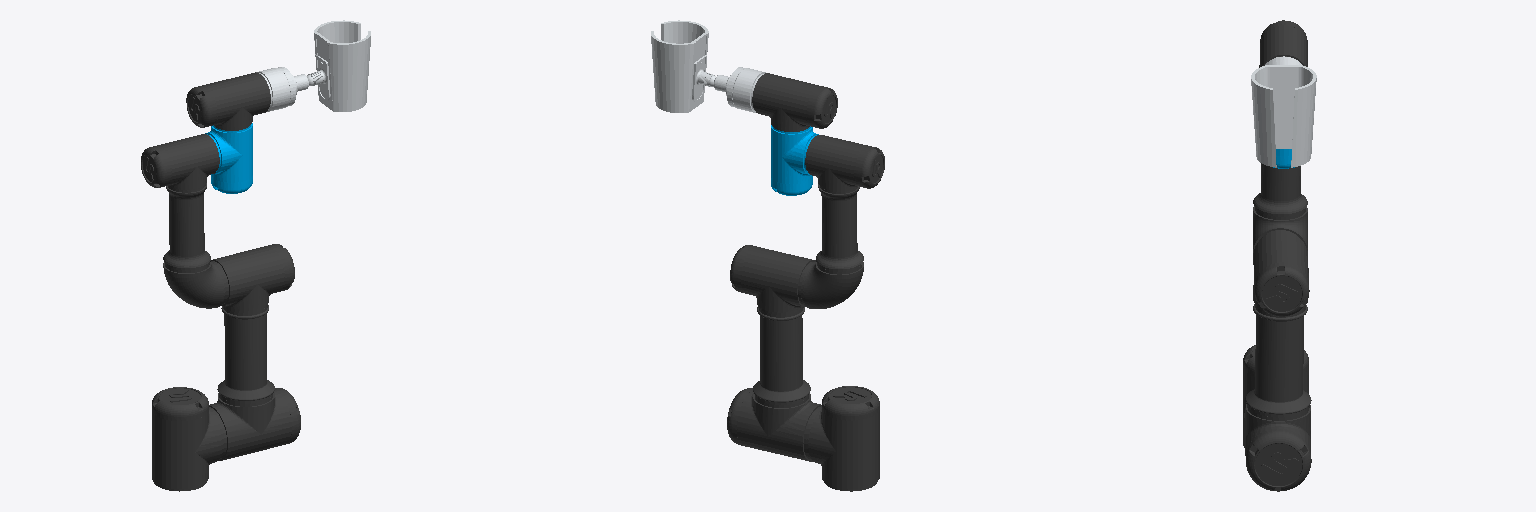
The robot description file, URDF, robot "ur_con_herramienta_fija":
<?xml version="1.0" encoding="utf-8" ?>
<!-- This URDF was automatically created by SolidWorks to URDF Exporter! Originally created by [author] ([email redacted]) 
     Commit Version: 1.6.0-1-g15f4949  Build Version: 1.6.7594.29634
     For more information, please see http://wiki.ros.org/sw_urdf_exporter -->
<robot name="ur_con_herramienta_fija">
    <link name="base_link">
        
<inertial>
            <origin xyz="2.64101237535564E-18 0.0475762493981301 -6.84823428946027E-18" rpy="0 0 0" />
            <mass value="2.65145043916468" />
            <inertia ixx="0.00437179269564763" ixy="7.2253503645595E-22" ixz="-8.3942079755898E-36" iyy="0.00438480872973141" iyz="-3.85148667524642E-19" izz="0.00437179269564763" />
        </inertial>

        <visual>
            <origin xyz="0 0 0" rpy="0 0 0" />
            <geometry>
                <mesh filename="package://ur_con_herramienta_fija/meshes/base_link.STL" />
            </geometry>
            <material name="">
                <color rgba="0.898039215686275 0.917647058823529 0.929411764705882 1" />
            </material>
        </visual>
        <collision>
            <origin xyz="0 0 0" rpy="0 0 0" />
            <geometry>
                <mesh filename="package://ur_con_herramienta_fija/meshes/base_link.STL" />
            </geometry>
        </collision>
    </link>
    <link name="shoulder1_link">
        
<inertial>
            <origin xyz="0.00514792403286268 0.0637458415037933 -2.32179009735414E-07" rpy="0 0 0" />
            <mass value="0.800701358529581" />
            <inertia ixx="0.00131487870842272" ixy="-1.72221420403911E-05" ixz="1.37252271850442E-08" iyy="0.000954968358643356" iyz="9.79847131683316E-10" izz="0.00141534841474555" />
        </inertial>

        <visual>
            <origin xyz="0 0 0" rpy="0 0 0" />
            <geometry>
                <mesh filename="package://ur_con_herramienta_fija/meshes/shoulder1_link.STL" />
            </geometry>
            <material name="">
                <color rgba="0.298039215686275 0.298039215686275 0.298039215686275 1" />
            </material>
        </visual>
        <collision>
            <origin xyz="0 0 0" rpy="0 0 0" />
            <geometry>
                <mesh filename="package://ur_con_herramienta_fija/meshes/shoulder1_link.STL" />
            </geometry>
        </collision>
    </link>
    <joint name="shoulder1_joint" type="continuous">
        <origin xyz="0 0 0.1058" rpy="1.5707963267949 0 0.0183849589678351" />
        <parent link="base_link" />
        <child link="shoulder1_link" />
        <axis xyz="0 1 0" />
    </joint>
    <link name="shoulder2_Link">
        
<inertial>
            <origin xyz="0.113689711007059 0.064919758897963 1.27017223089648E-07" rpy="0 0 0" />
            <mass value="2.79610549136134" />
            <inertia ixx="0.00280381546638843" ixy="-1.27251874671282E-05" ixz="-1.48095522566419E-08" iyy="0.00503444592371733" iyz="-2.55986839461009E-09" izz="0.00570902082553899" />
        </inertial>

        <visual>
            <origin xyz="0 0 0" rpy="0 0 0" />
            <geometry>
                <mesh filename="package://ur_con_herramienta_fija/meshes/shoulder2_Link.STL" />
            </geometry>
            <material name="">
                <color rgba="0.298039215686275 0.298039215686275 0.298039215686275 1" />
            </material>
        </visual>
        <collision>
            <origin xyz="0 0 0" rpy="0 0 0" />
            <geometry>
                <mesh filename="package://ur_con_herramienta_fija/meshes/shoulder2_Link.STL" />
            </geometry>
        </collision>
    </link>
    <joint name="shoulder2_joint" type="continuous">
        <origin xyz="0.0553388892120295 0.066 0" rpy="-3.14159265358971 0.0185718779793312 1.5707963267949" />
        <parent link="shoulder1_link" />
        <child link="shoulder2_Link" />
        <axis xyz="0 1 0" />
    </joint>
    <link name="shoulder3_Link">
        
<inertial>
            <origin xyz="0.0372493474620883 -0.115733396945102 1.39835810665165E-08" rpy="0 0 0" />
            <mass value="1.54172457038253" />
            <inertia ixx="0.0021915651639715" ixy="5.89418525085992E-05" ixz="-5.21035861442251E-10" iyy="0.00089862926269953" iyz="-3.81373846770823E-09" izz="0.00231411869604767" />
        </inertial>

        <visual>
            <origin xyz="0 0 0" rpy="0 0 0" />
            <geometry>
                <mesh filename="package://ur_con_herramienta_fija/meshes/shoulder3_Link.STL" />
            </geometry>
            <material name="">
                <color rgba="0.298039215686275 0.298039215686275 0.298039215686275 1" />
            </material>
        </visual>
        <collision>
            <origin xyz="0 0 0" rpy="0 0 0" />
            <geometry>
                <mesh filename="package://ur_con_herramienta_fija/meshes/shoulder3_Link.STL" />
            </geometry>
        </collision>
    </link>
    <joint name="shoulder3_joint" type="continuous">
        <origin xyz="0.255 0 0" rpy="3.14084122794701 0 -1.5707963267949" />
        <parent link="shoulder2_Link" />
        <child link="shoulder3_Link" />
        <axis xyz="1 0 0" />
    </joint>
    <link name="shoulder4_Link">
        
<inertial>
            <origin xyz="0.0056931504051686 0.00260315148511447 0.0359570418540721" rpy="0 0 0" />
            <mass value="0.30365252171567" />
            <inertia ixx="0.000280146121518899" ixy="-2.01684005428703E-07" ixz="-3.40077770509169E-06" iyy="0.000191315923778503" iyz="-1.27200706541373E-06" izz="0.000259233118901331" />
        </inertial>

        <visual>
            <origin xyz="0 0 0" rpy="0 0 0" />
            <geometry>
                <mesh filename="package://ur_con_herramienta_fija/meshes/shoulder4_Link.STL" />
            </geometry>
            <material name="">
                <color rgba="0 0.725490196078431 1 1" />
            </material>
        </visual>
        <collision>
            <origin xyz="0 0 0" rpy="0 0 0" />
            <geometry>
                <mesh filename="package://ur_con_herramienta_fija/meshes/shoulder4_Link.STL" />
            </geometry>
        </collision>
    </link>
    <joint name="shoulder4_joint" type="continuous">
        <origin xyz="-0.00376999800768517 -0.2245 0" rpy="-3.02811430920995 -1.4127718869458 3.02951635397989" />
        <parent link="shoulder3_Link" />
        <child link="shoulder4_Link" />
        <axis xyz="0.156380249592865 0 0.987696925953135" />
    </joint>
    <link name="shoulder5_Link">
        
<inertial>
            <origin xyz="-0.0391252197015427 -0.00184289099308041 7.99414916381747E-09" rpy="0 0 0" />
            <mass value="0.333185460218424" />
            <inertia ixx="0.000330241453545441" ixy="-4.05903181066883E-06" ixz="3.42280898192863E-09" iyy="0.000207362986969204" iyz="-1.03514483340162E-10" izz="0.00035268676518792" />
        </inertial>

        <visual>
            <origin xyz="0 0 0" rpy="0 0 0" />
            <geometry>
                <mesh filename="package://ur_con_herramienta_fija/meshes/shoulder5_Link.STL" />
            </geometry>
            <material name="">
                <color rgba="0.298039215686275 0.298039215686275 0.298039215686275 1" />
            </material>
        </visual>
        <collision>
            <origin xyz="0 0 0" rpy="0 0 0" />
            <geometry>
                <mesh filename="package://ur_con_herramienta_fija/meshes/shoulder5_Link.STL" />
            </geometry>
        </collision>
    </link>
    <joint name="shoulder5_joint" type="continuous">
        <origin xyz="0.00631637229775821 -0.0407409448596764 0.0398941779289388" rpy="-1.39538662615873 0 1.5707963267949" />
        <parent link="shoulder4_Link" />
        <child link="shoulder5_Link" />
        <axis xyz="1 0 0" />
    </joint>
    <link name="terminal_Link">
        
<inertial>
            <origin xyz="-0.00262793592961208 0.0558871584719643 -8.20912069225826E-05" rpy="0 0 0" />
            <mass value="0.50199339743949" />
            <inertia ixx="0.000308581635077254" ixy="-5.97748068064847E-06" ixz="-1.51138663756366E-06" iyy="0.000449594842781553" iyz="-1.8641842731855E-07" izz="0.000356863676269175" />
        </inertial>

        <visual>
            <origin xyz="0 0 0" rpy="0 0 0" />
            <geometry>
                <mesh filename="package://ur_con_herramienta_fija/meshes/terminal_Link.STL" />
            </geometry>
            <material name="">
                <color rgba="0.894117647058823 0.913725490196078 0.929411764705882 1" />
            </material>
        </visual>
        <collision>
            <origin xyz="0 0 0" rpy="0 0 0" />
            <geometry>
                <mesh filename="package://ur_con_herramienta_fija/meshes/terminal_Link.STL" />
            </geometry>
        </collision>
    </link>
    <joint name="terminal_joint" type="continuous">
        <origin xyz="-0.0427590551403216 -0.0530000000000001 0" rpy="-3.14159265358979 -0.0312647346449551 0" />
        <parent link="shoulder5_Link" />
        <child link="terminal_Link" />
        <axis xyz="0 1 0" />
    </joint>
    
<transmission name="trans_shoulder1_joint">
        <type>transmission_interface/SimpleTransmission</type>
        <joint name="shoulder1_joint">
            <hardwareInterface>hardware_interface/EffortJointInterface</hardwareInterface>
        </joint>
        <actuator name="shoulder1_joint_motor">
            <hardwareInterface>hardware_interface/EffortJointInterface</hardwareInterface>
            <mechanicalReduction>1</mechanicalReduction>
        </actuator>
    </transmission>
    <transmission name="trans_shoulder2_joint">
        <type>transmission_interface/SimpleTransmission</type>
        <joint name="shoulder2_joint">
            <hardwareInterface>hardware_interface/EffortJointInterface</hardwareInterface>
        </joint>
        <actuator name="shoulder2_joint_motor">
            <hardwareInterface>hardware_interface/EffortJointInterface</hardwareInterface>
            <mechanicalReduction>1</mechanicalReduction>
        </actuator>
    </transmission>
    <transmission name="trans_shoulder3_joint">
        <type>transmission_interface/SimpleTransmission</type>
        <joint name="shoulder3_joint">
            <hardwareInterface>hardware_interface/EffortJointInterface</hardwareInterface>
        </joint>
        <actuator name="shoulder3_joint_motor">
            <hardwareInterface>hardware_interface/EffortJointInterface</hardwareInterface>
            <mechanicalReduction>1</mechanicalReduction>
        </actuator>
    </transmission>
    <transmission name="trans_shoulder4_joint">
        <type>transmission_interface/SimpleTransmission</type>
        <joint name="shoulder4_joint">
            <hardwareInterface>hardware_interface/EffortJointInterface</hardwareInterface>
        </joint>
        <actuator name="shoulder4_joint_motor">
            <hardwareInterface>hardware_interface/EffortJointInterface</hardwareInterface>
            <mechanicalReduction>1</mechanicalReduction>
        </actuator>
    </transmission>
    <transmission name="trans_shoulder5_joint">
        <type>transmission_interface/SimpleTransmission</type>
        <joint name="shoulder5_joint">
            <hardwareInterface>hardware_interface/EffortJointInterface</hardwareInterface>
        </joint>
        <actuator name="shoulder5_joint_motor">
            <hardwareInterface>hardware_interface/EffortJointInterface</hardwareInterface>
            <mechanicalReduction>1</mechanicalReduction>
        </actuator>
    </transmission>
    <transmission name="trans_terminal_joint">
        <type>transmission_interface/SimpleTransmission</type>
        <joint name="terminal_joint">
            <hardwareInterface>hardware_interface/EffortJointInterface</hardwareInterface>
        </joint>
        <actuator name="terminal_joint_motor">
            <hardwareInterface>hardware_interface/EffortJointInterface</hardwareInterface>
            <mechanicalReduction>1</mechanicalReduction>
        </actuator>
    </transmission>
    <gazebo>
        <plugin name="gazebo_ros_control" filename="libgazebo_ros_control.so">
            <robotNamespace>/</robotNamespace>
        </plugin>
    </gazebo>
</robot>

--- What the picture shows (computed from the rendered views, not written in the file) ---
3 views of the same robot in one strip: view 1: azimuth 30°, elevation 25°; view 2: azimuth 150°, elevation 25°; view 3: azimuth 270°, elevation 25° (orthographic).
Robot: ur_con_herramienta_fija — 7 links, 6 joints (6 continuous); root link base_link; default pose: every joint at zero.
Visible links, largest first — view 1: shoulder2_Link, shoulder3_Link, shoulder1_link, terminal_Link, shoulder5_Link, shoulder4_Link; view 2: shoulder2_Link, shoulder3_Link, shoulder1_link, terminal_Link, shoulder5_Link, shoulder4_Link; view 3: shoulder2_Link, terminal_Link, shoulder3_Link, shoulder5_Link, shoulder1_link.
Link boxes in pixels (box(x1,y1,x2,y2)): shoulder2_Link: box(209, 244, 300, 460); shoulder3_Link: box(141, 134, 225, 308); shoulder1_link: box(152, 387, 223, 491); terminal_Link: box(256, 20, 370, 111); shoulder5_Link: box(186, 72, 270, 130); shoulder4_Link: box(205, 123, 252, 193); shoulder2_Link: box(727, 245, 821, 461); shoulder3_Link: box(801, 135, 884, 308); shoulder1_link: box(806, 386, 879, 491); terminal_Link: box(651, 20, 765, 112); shoulder5_Link: box(752, 73, 837, 131); shoulder4_Link: box(771, 125, 818, 195); shoulder2_Link: box(1244, 231, 1311, 491); terminal_Link: box(1251, 56, 1316, 167); shoulder3_Link: box(1253, 65, 1307, 252); shoulder5_Link: box(1260, 20, 1307, 66); shoulder1_link: box(1243, 345, 1308, 447).
Size in the robot's own frame: 0.3942 by 0.1005 by 0.6976 metres.
6 mesh visuals loaded from 7 distinct referenced files (6 binary STL); not drawn: 1 (reference not matched to a file when rendering).